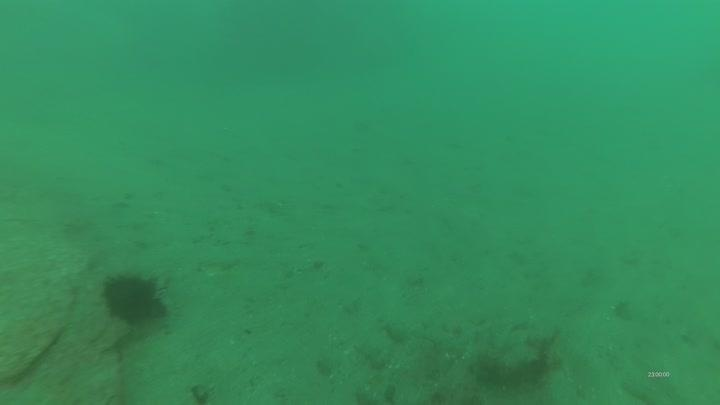echinus: (99, 268, 167, 328)
